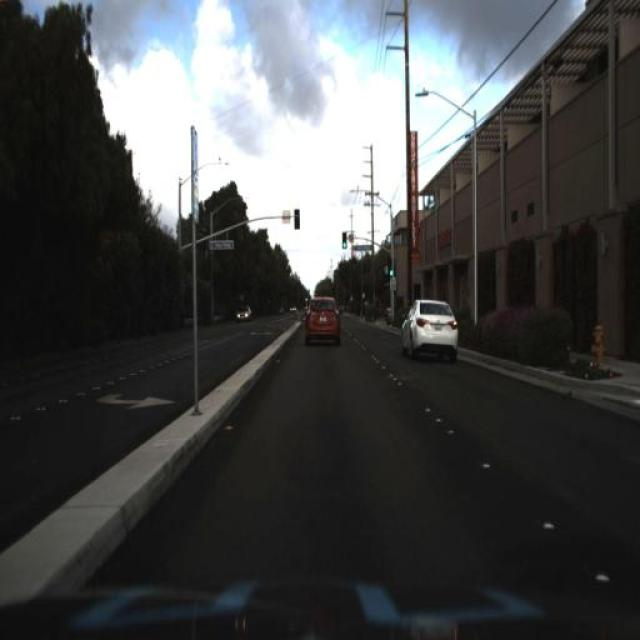car: (396, 293, 464, 365), (292, 290, 353, 358), (234, 300, 257, 326), (236, 300, 252, 325)
trafficLight-GreenLeft: (335, 227, 350, 257), (340, 228, 350, 252), (386, 261, 396, 280), (390, 264, 396, 280)
